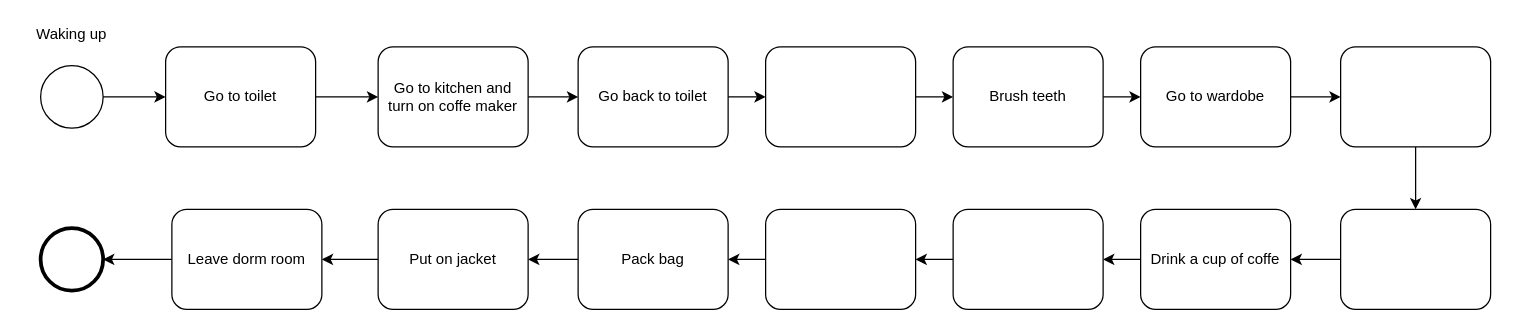
Some shapes in this 1513 by 331 pixel diagram are drawn without their labels. The box of each missing label's shape, as (x1, y1, x2, y2) in pixels:
Choose what to wear: (1339, 46, 1491, 147)
Eat breakfast: (764, 208, 916, 309)
Go back to kitchen: (1339, 208, 1491, 309)
Make breakfast: (952, 208, 1103, 309)
Take a shower: (764, 46, 916, 147)
